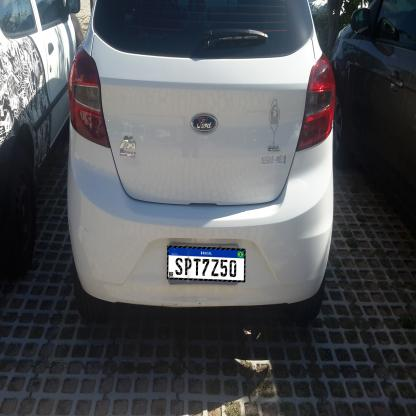PlacaM: (166, 246, 246, 282)
